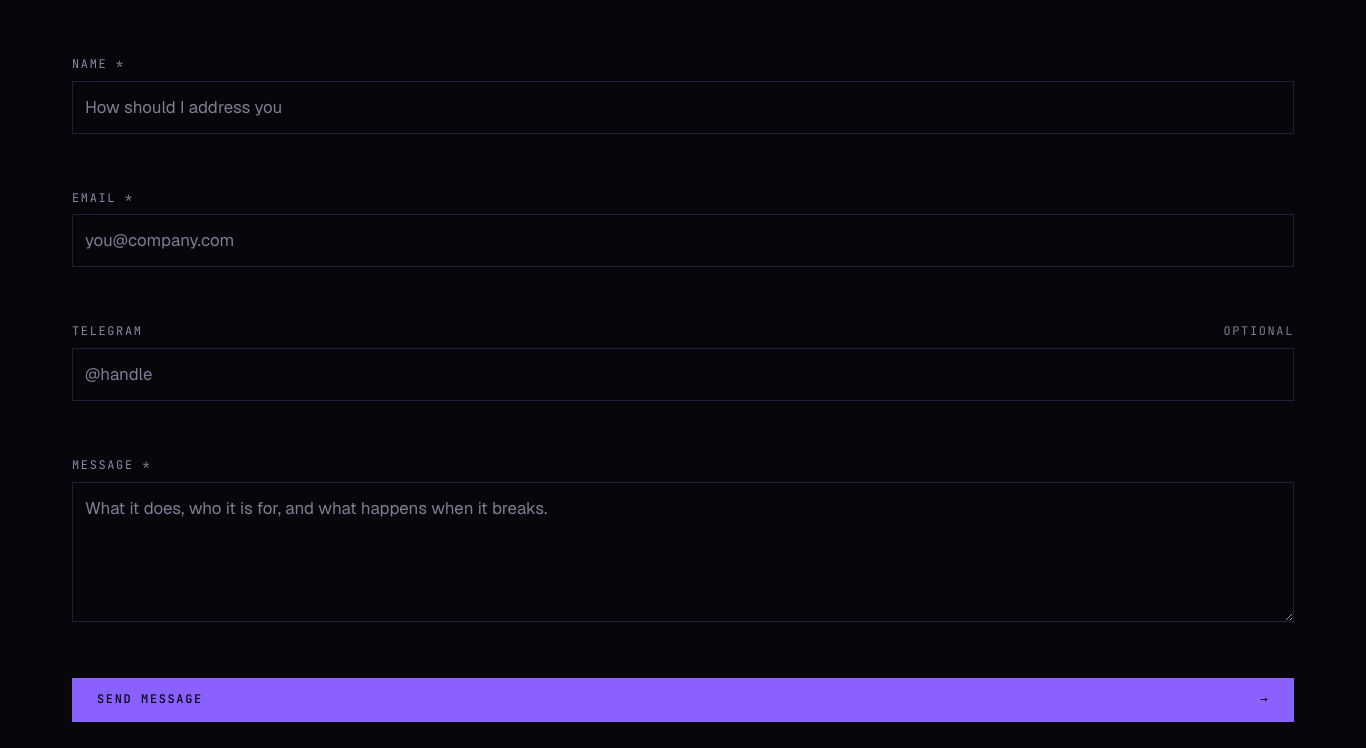
Test: ContactForm › shows the rate-limit message and does not treat it as a field error
Type "Maxim" into the field labelled "Name *". click: [683, 107]
box: top-left (72, 81), bottom-right (1294, 134)
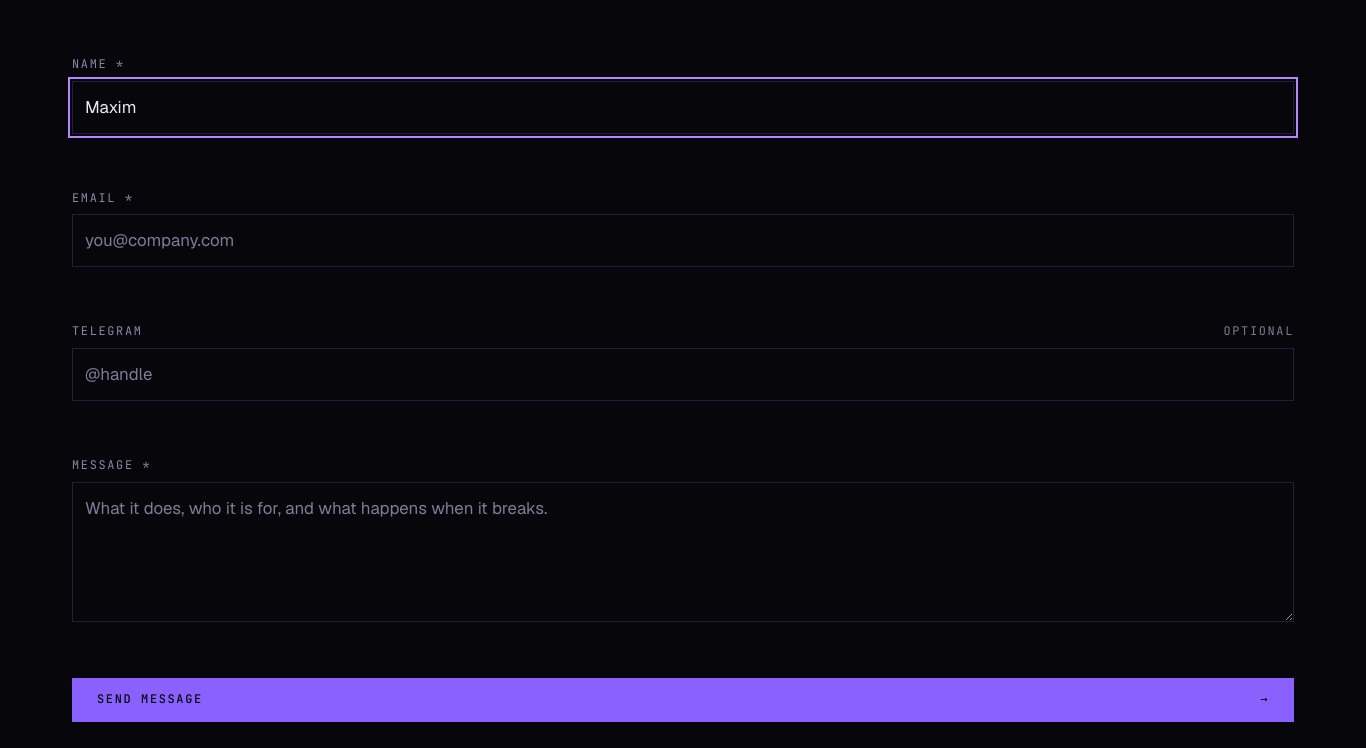
Type "someone@example.com" into the field labelled "Email *". click: [683, 241]
box: top-left (72, 214), bottom-right (1294, 267)
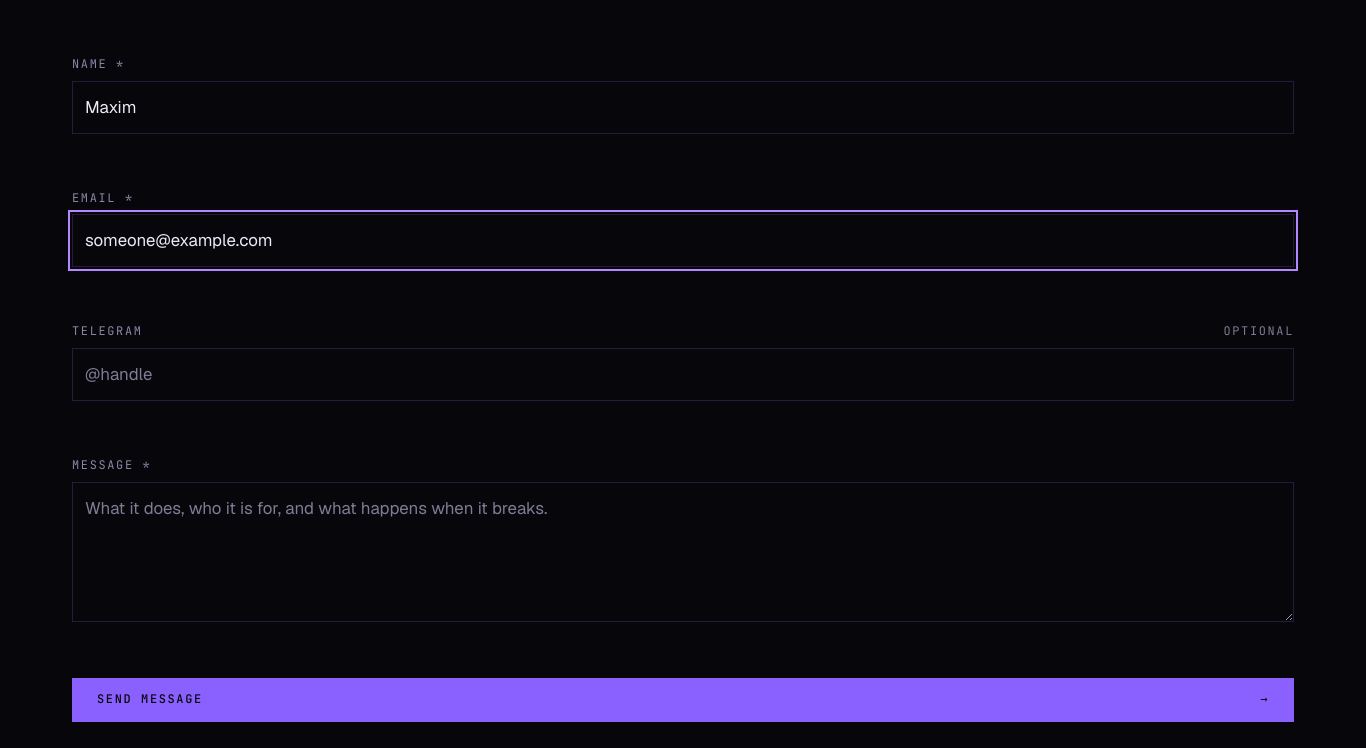
Type "A message that is comfortably past the ten character floor." into the text box labelled "Message *". click: [683, 552]
box: top-left (72, 482), bottom-right (1294, 622)
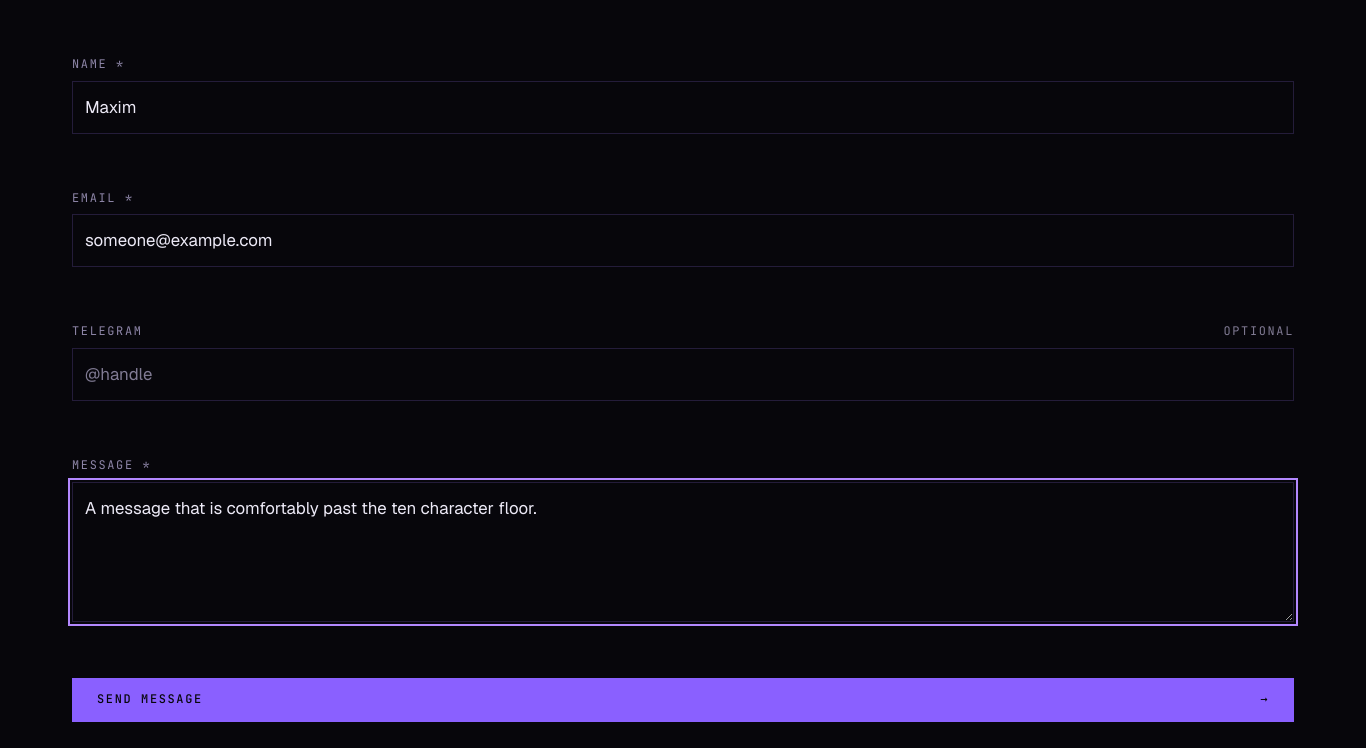
Click the button "Send message →". click: [150, 699]
box: top-left (72, 678), bottom-right (1294, 722)
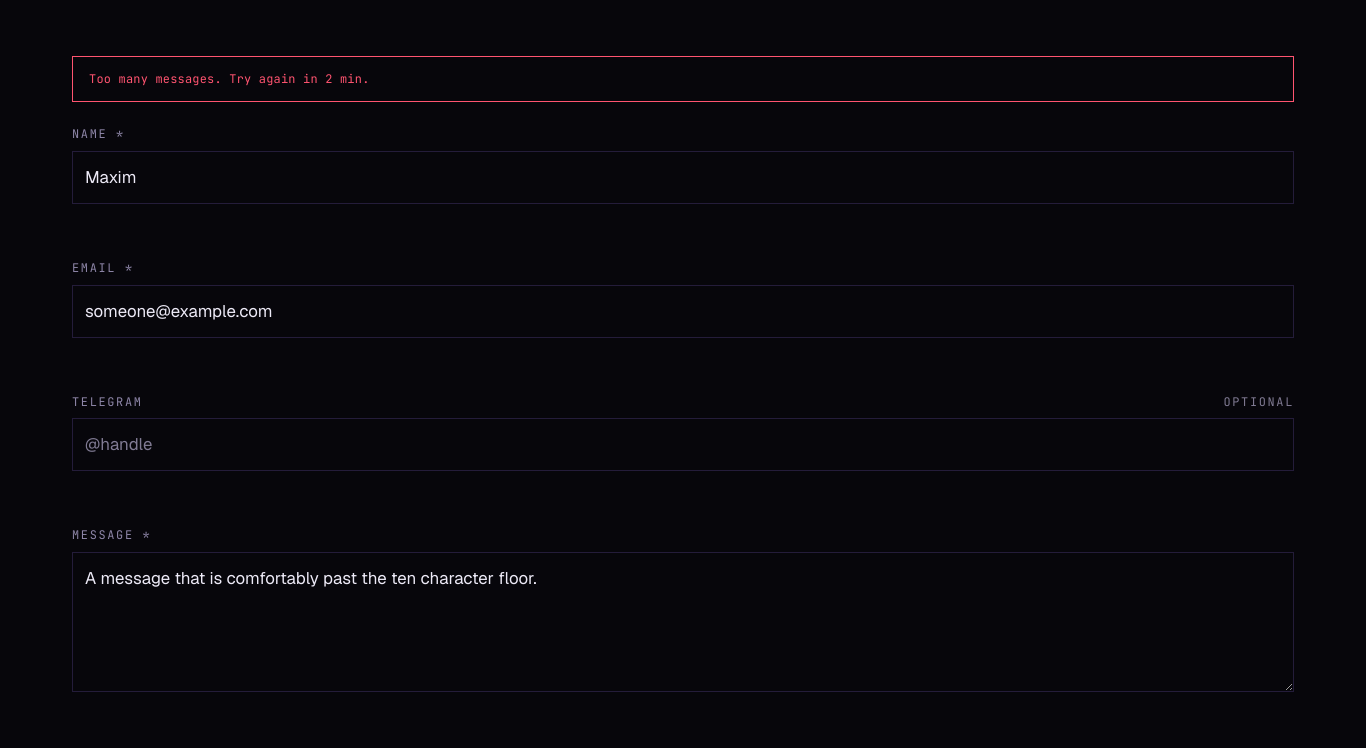
Expected: the message shows "2 min", top-left (89, 71), bottom-right (370, 87)
